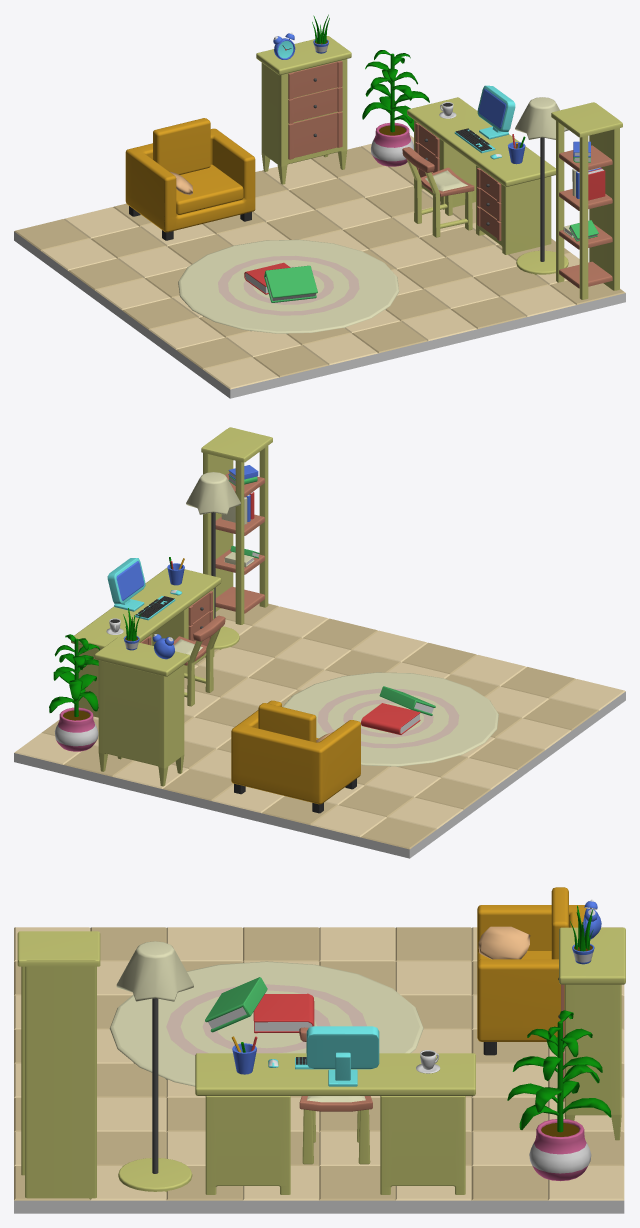
The model's file is study room.fbx.
3 views of the same model, one above another, from view 1: azimuth 30°, elevation 25°; view 2: azimuth 150°, elevation 25°; view 3: azimuth 270°, elevation 25° (orthographic). The views are drawn at different scales.
Visible parts, largest first — view 1: polySurface21, polySurface22, mat, polySurface28, polySurface8, base, polySurface9, polySurface16, Lamp, leaves, drawer3, polySurface63 (+13 smaller); view 2: polySurface22, polySurface21, mat, polySurface9, polySurface28, base, polySurface8, Lamp, leaves, polySurface16, polySurface17, polySurface14 (+10 smaller); view 3: polySurface21, polySurface22, polySurface8, mat, polySurface16, polySurface28, polySurface9, base, Lamp, leaves, polySurface20, polySurface14 (+10 smaller).
Boxes of the visible parts, x1=… form: polySurface21: x1=14, y1=146, x2=625, y2=377; polySurface22: x1=41, y1=135, x2=579, y2=389; mat: x1=178, y1=239, x2=399, y2=334; polySurface28: x1=125, y1=118, x2=255, y2=232; polySurface8: x1=407, y1=97, x2=555, y2=254; base: x1=14, y1=231, x2=625, y2=398; polySurface9: x1=256, y1=36, x2=351, y2=184; polySurface16: x1=589, y1=103, x2=619, y2=290; Lamp: x1=515, y1=97, x2=568, y2=274; leaves: x1=362, y1=50, x2=429, y2=132; drawer3: x1=288, y1=111, x2=342, y2=159; polySurface63: x1=407, y1=159, x2=472, y2=237; polySurface22: x1=14, y1=606, x2=625, y2=837; polySurface21: x1=41, y1=603, x2=598, y2=849; mat: x1=282, y1=672, x2=498, y2=766; polySurface9: x1=94, y1=637, x2=189, y2=786; polySurface28: x1=231, y1=700, x2=360, y2=804; base: x1=14, y1=691, x2=625, y2=858; polySurface8: x1=71, y1=568, x2=221, y2=717; Lamp: x1=186, y1=472, x2=240, y2=649; leaves: x1=49, y1=634, x2=99, y2=716; polySurface16: x1=203, y1=429, x2=233, y2=611; polySurface17: x1=235, y1=461, x2=244, y2=624; polySurface14: x1=201, y1=427, x2=272, y2=462; polySurface21: x1=14, y1=927, x2=624, y2=1200; polySurface22: x1=14, y1=927, x2=624, y2=1200; polySurface8: x1=195, y1=1053, x2=475, y2=1194; mat: x1=109, y1=961, x2=423, y2=1086; polySurface16: x1=25, y1=960, x2=96, y2=1198; polySurface28: x1=477, y1=887, x2=586, y2=1041; polySurface9: x1=559, y1=927, x2=625, y2=1140; base: x1=14, y1=1200, x2=624, y2=1213; Lamp: x1=116, y1=941, x2=193, y2=1191; leaves: x1=507, y1=1010, x2=611, y2=1132; polySurface20: x1=306, y1=1026, x2=379, y2=1086; polySurface14: x1=17, y1=931, x2=100, y2=966.
Size of the model in its own units: 460 by 199 by 437.
